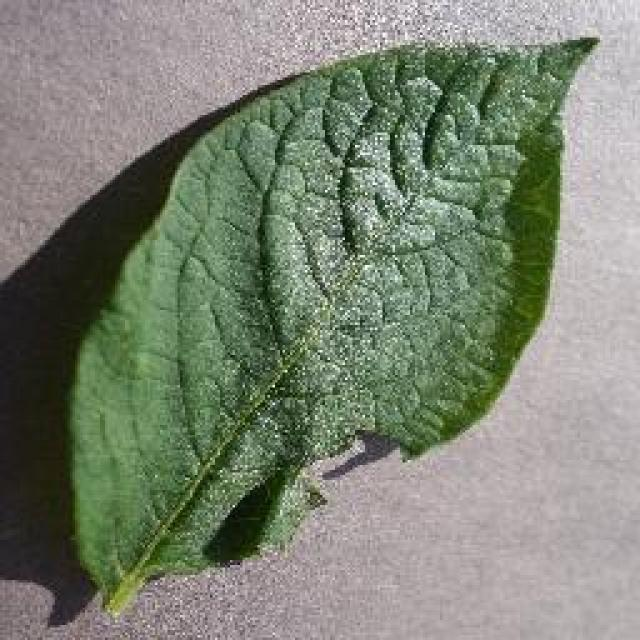Potato: (60, 32, 600, 618)
